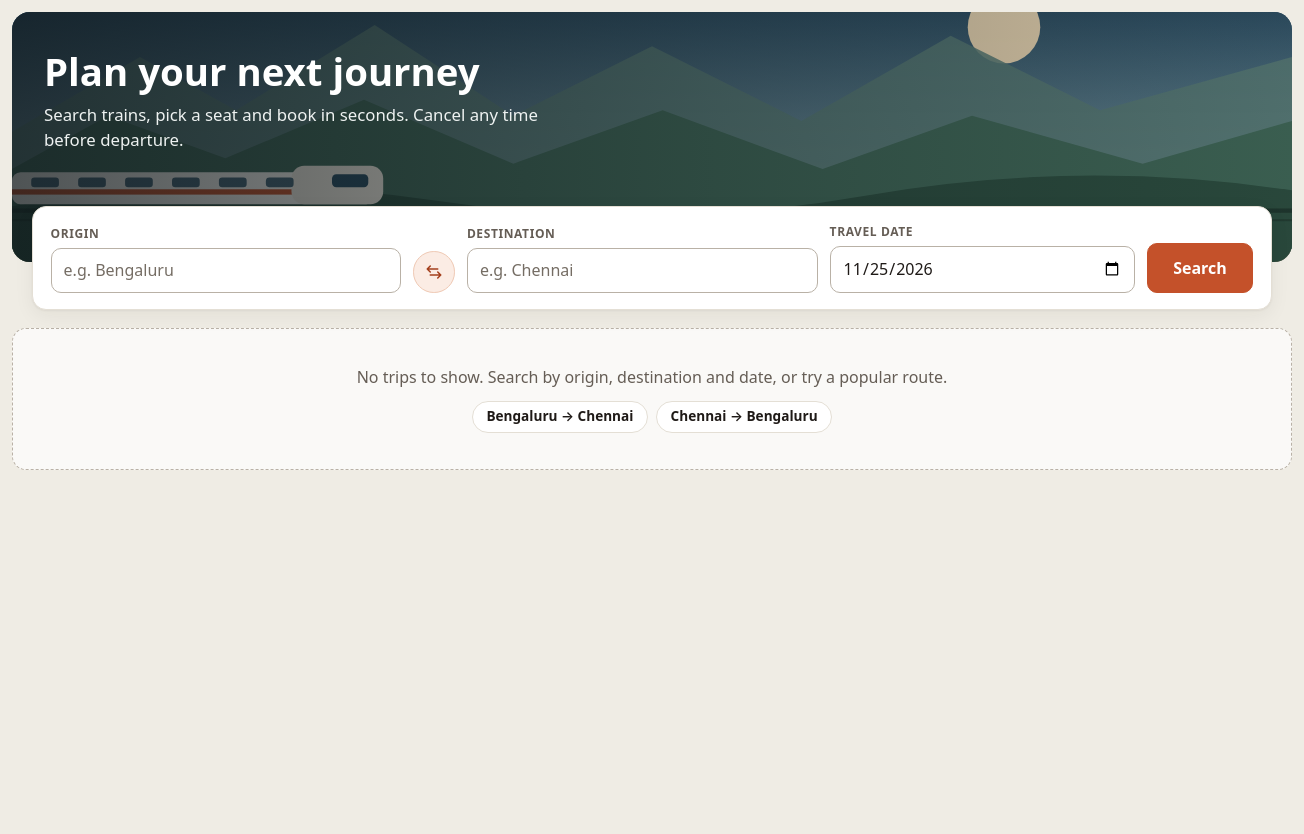
it: filters and sorting › the fare slider hides journeys above the chosen maximum
Type "Bengaluru" into the field labelled "Origin" at [226, 270], box [51,248,401,293]
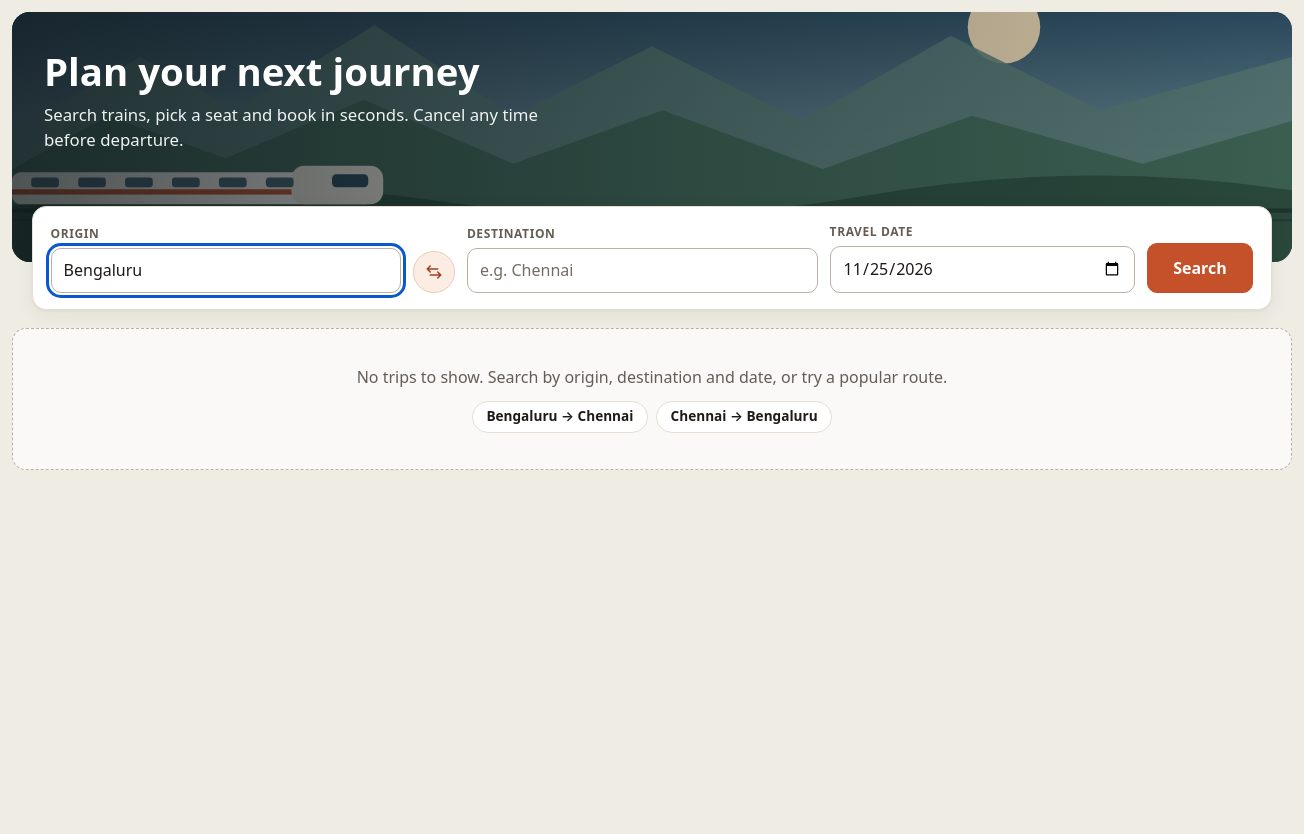
Type "Chennai" into the field labelled "Destination" at [642, 270], box [467,248,818,293]
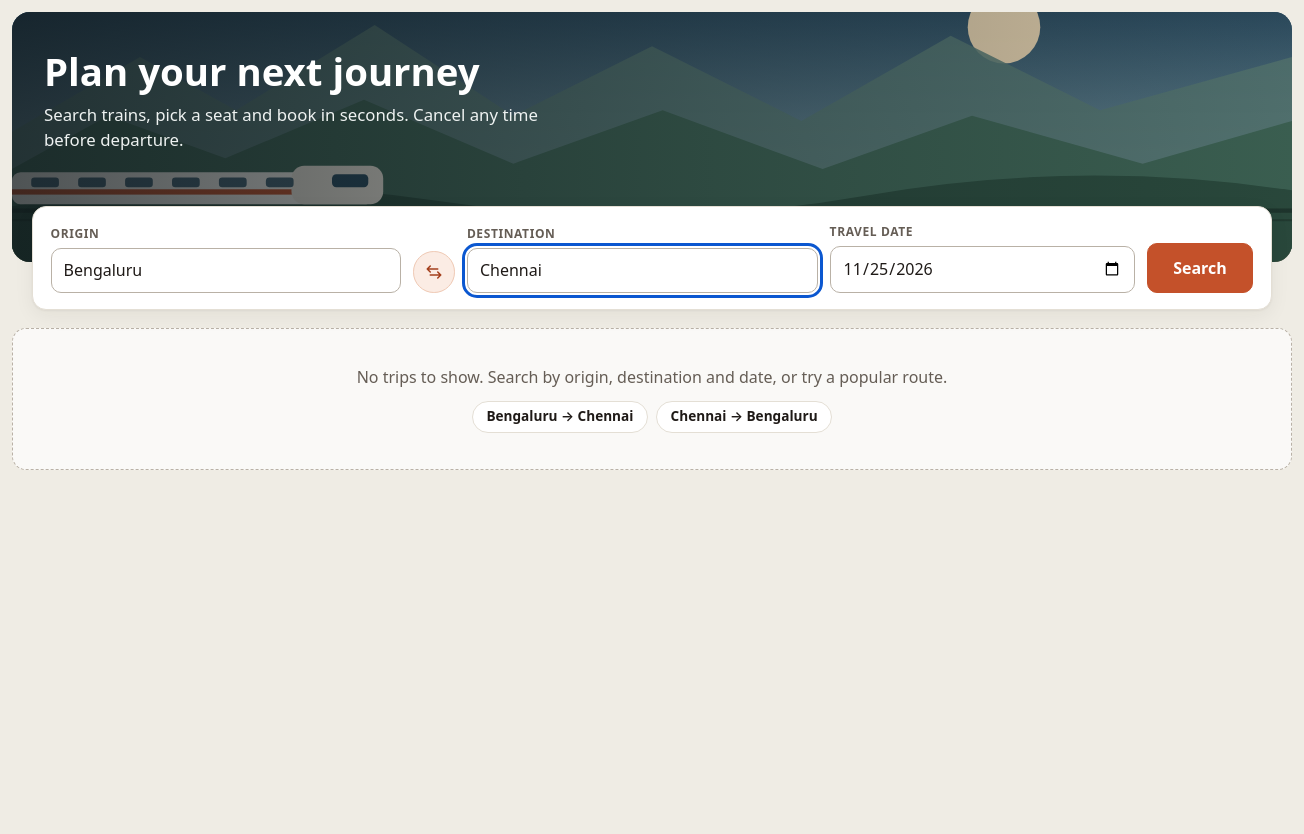
Click the button "Search" at [1200, 268], box [1147,243,1253,293]
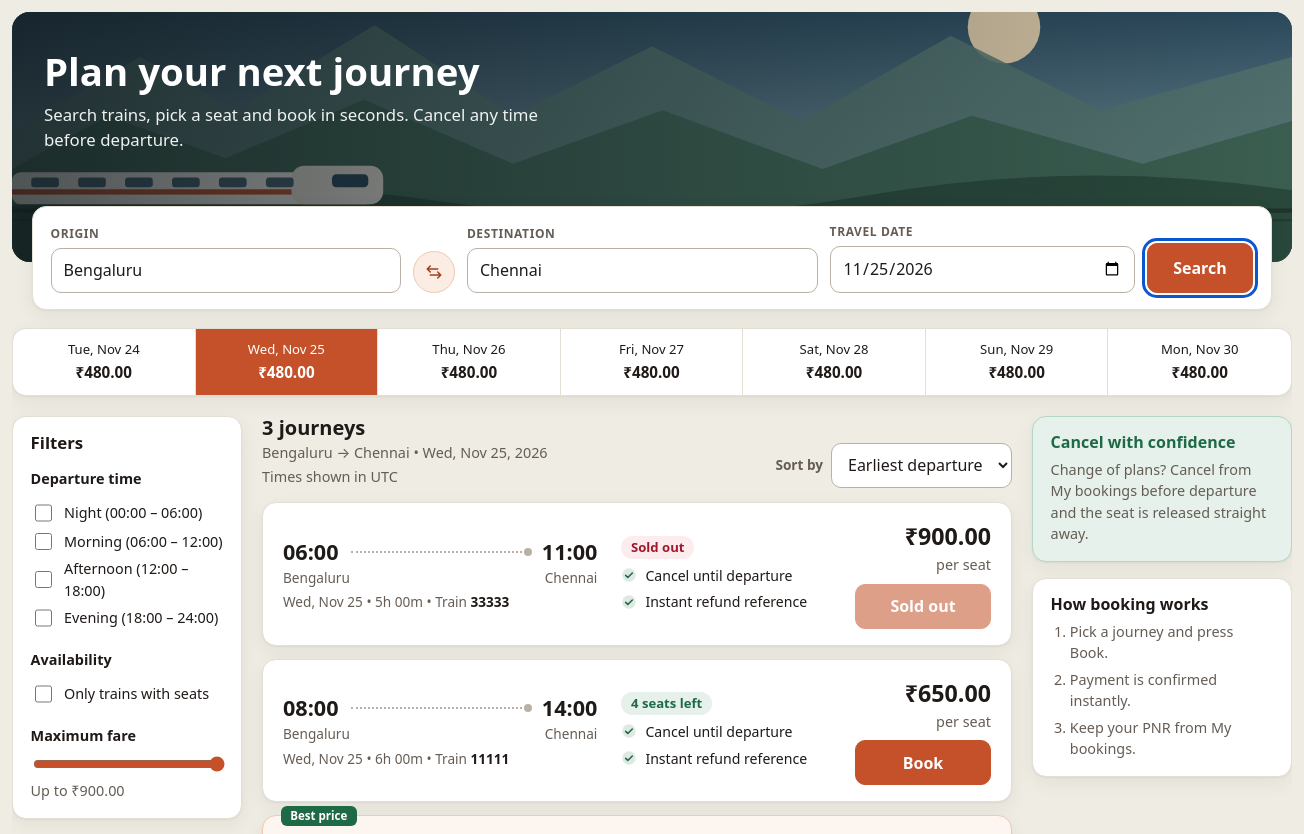
Now the heading "3 journeys" is shown, box [262,414,365,441]
Set the slider named "Maximum fare" to "700" at [133, 764], box [33,756,225,772]
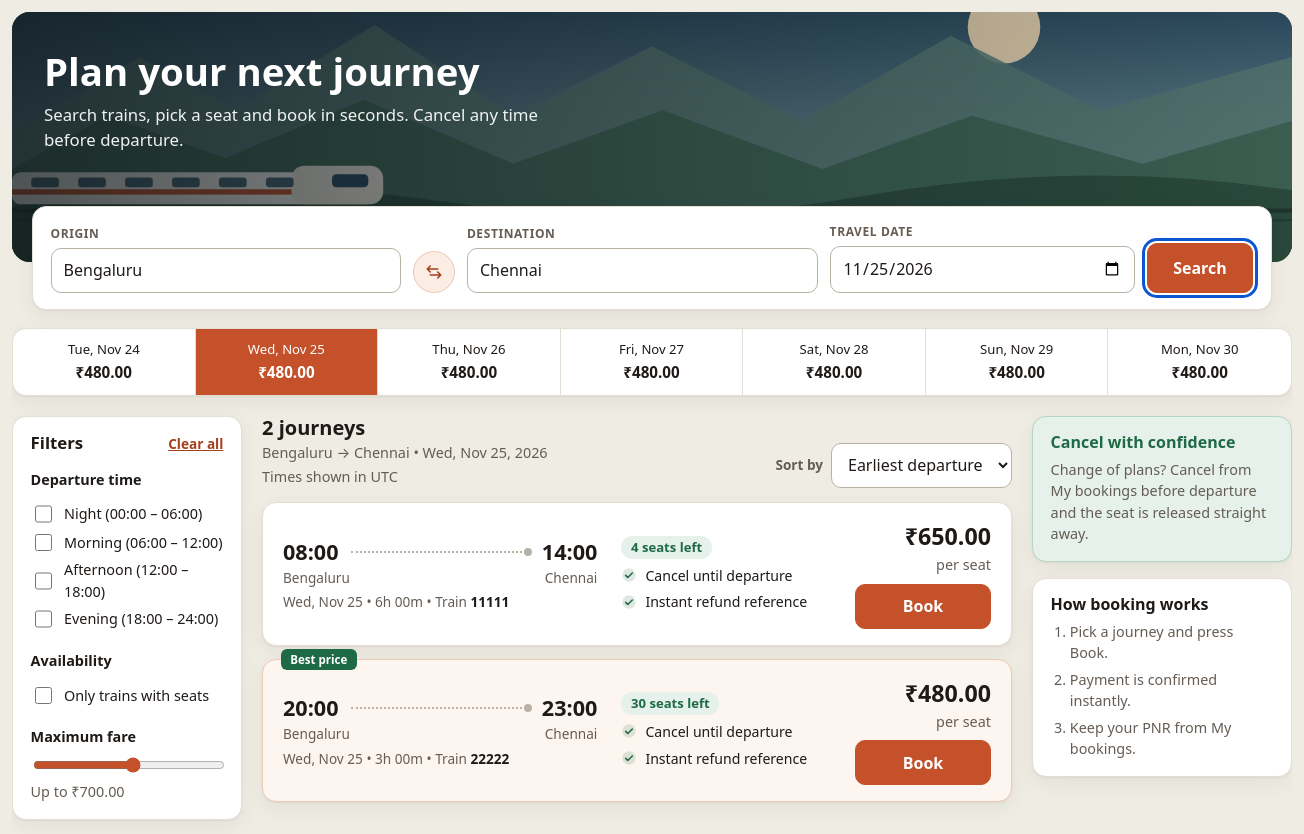
Now the heading "2 journeys" is shown, box [262,414,365,441]
Now the text "Up to ₹700.00" is shown, box [31,782,125,801]
Set the slider named "Maximum fare" to "900" at [217, 765], box [33,757,225,773]
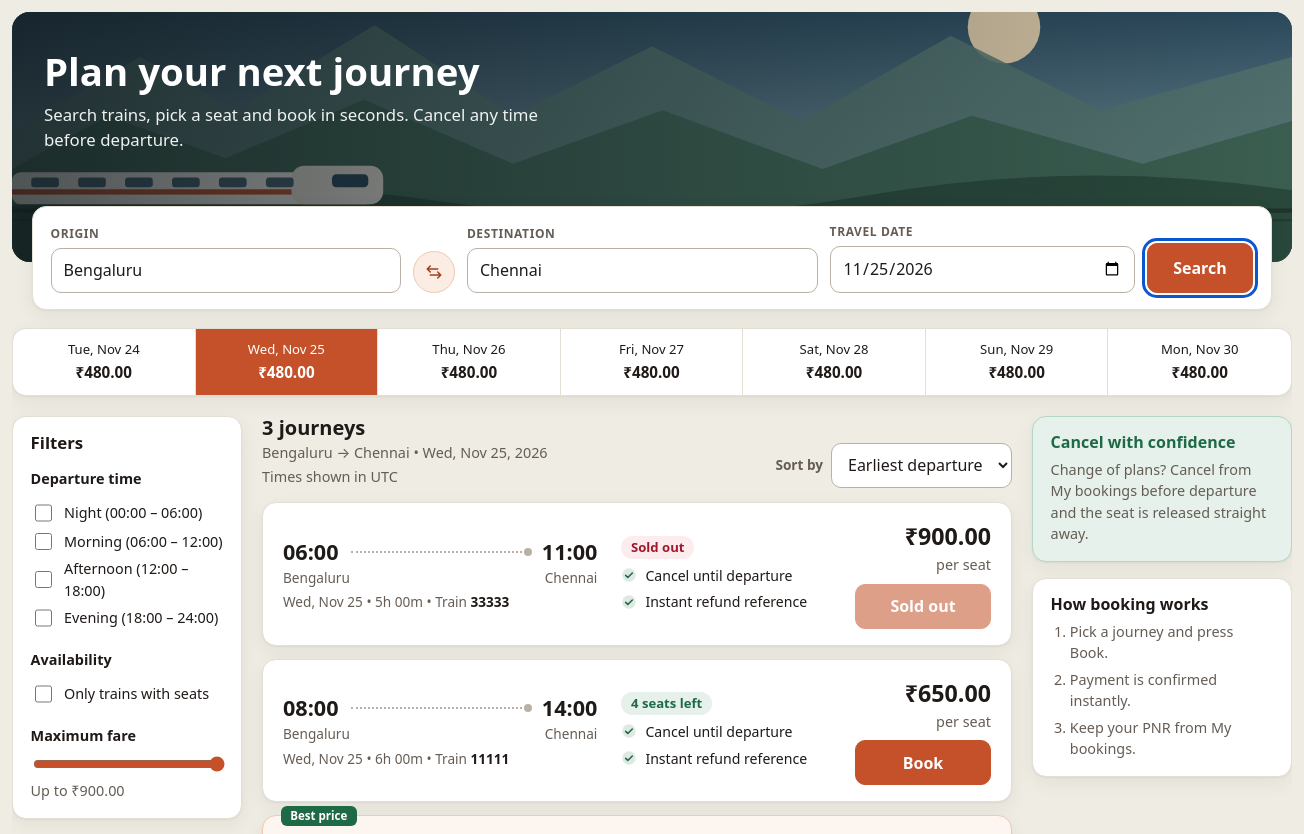
Now the heading "3 journeys" is shown, box [262,414,365,441]
